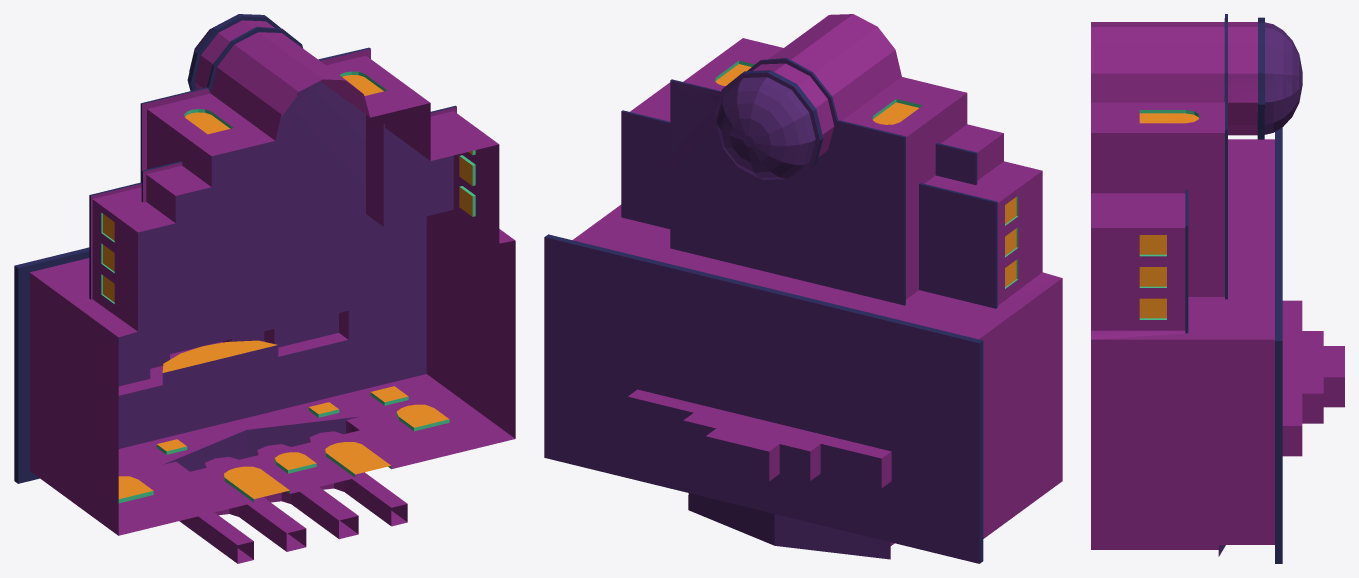
Rendered from Łaźnia-Rogatka Lubelska Tier 3.fbx.
3 renders of one model, left to right at view 1: azimuth 30°, elevation 25°; view 2: azimuth 150°, elevation 25°; view 3: azimuth 270°, elevation 25°, orthographic. The views are drawn at different scales.
Visible parts, largest first — view 1: Laznia_Rogatka_Lubelska_Laznia_cala_; view 2: Laznia_Rogatka_Lubelska_Laznia_cala_; view 3: Laznia_Rogatka_Lubelska_Laznia_cala_.
Part boxes in pixels (<box>): Laznia_Rogatka_Lubelska_Laznia_cala_: <box>14,14,515,563</box>; Laznia_Rogatka_Lubelska_Laznia_cala_: <box>544,14,1062,563</box>; Laznia_Rogatka_Lubelska_Laznia_cala_: <box>1091,14,1344,563</box>.
Bounding box in the file's own units: 4.15 × 4.37 × 2.08.
